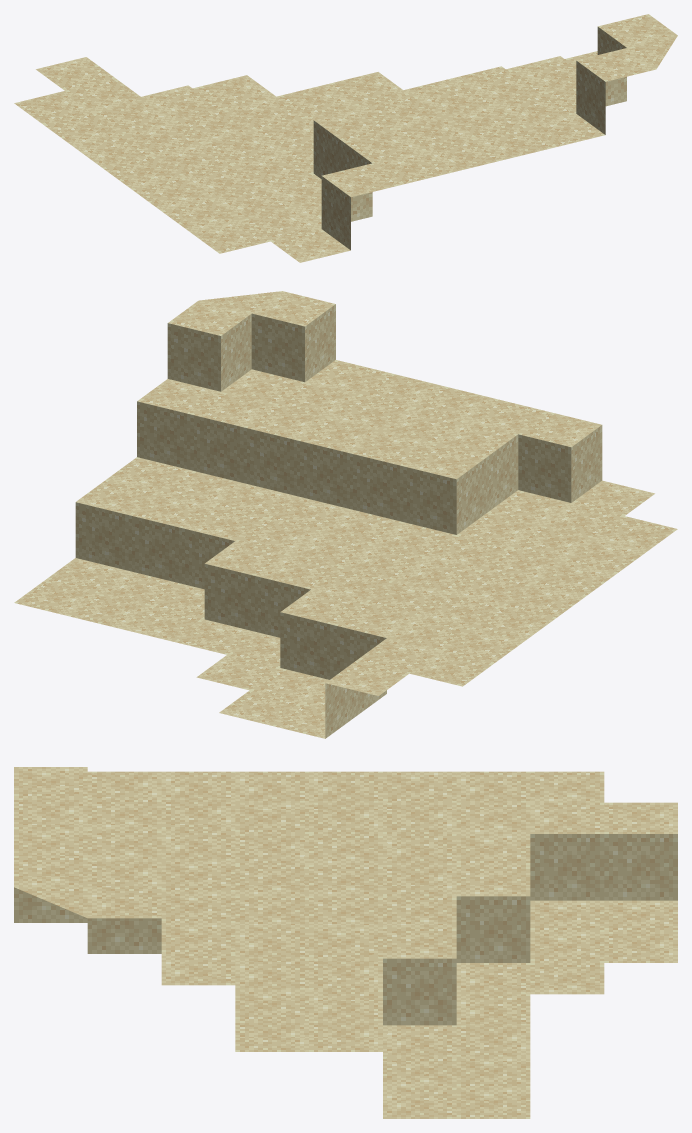
File: Sand_Chunk_4_29.fbx
The picture shows the model from 3 angles, top to bottom: view 1: azimuth 30°, elevation 25°; view 2: azimuth 150°, elevation 25°; view 3: azimuth 270°, elevation 25°; orthographic projection. The views are drawn at different scales.
Parts seen in each view (by area): view 1: Sand_Chunk_4_29; view 2: Sand_Chunk_4_29; view 3: Sand_Chunk_4_29.
Boxes of the visible parts, <box> form: Sand_Chunk_4_29: <box>14,14,677,262</box>; Sand_Chunk_4_29: <box>14,291,677,738</box>; Sand_Chunk_4_29: <box>14,767,677,1118</box>.
Bounding box in the file's own units: 900 × 300 × 900.
Materials: 1 (1 with a texture image).
